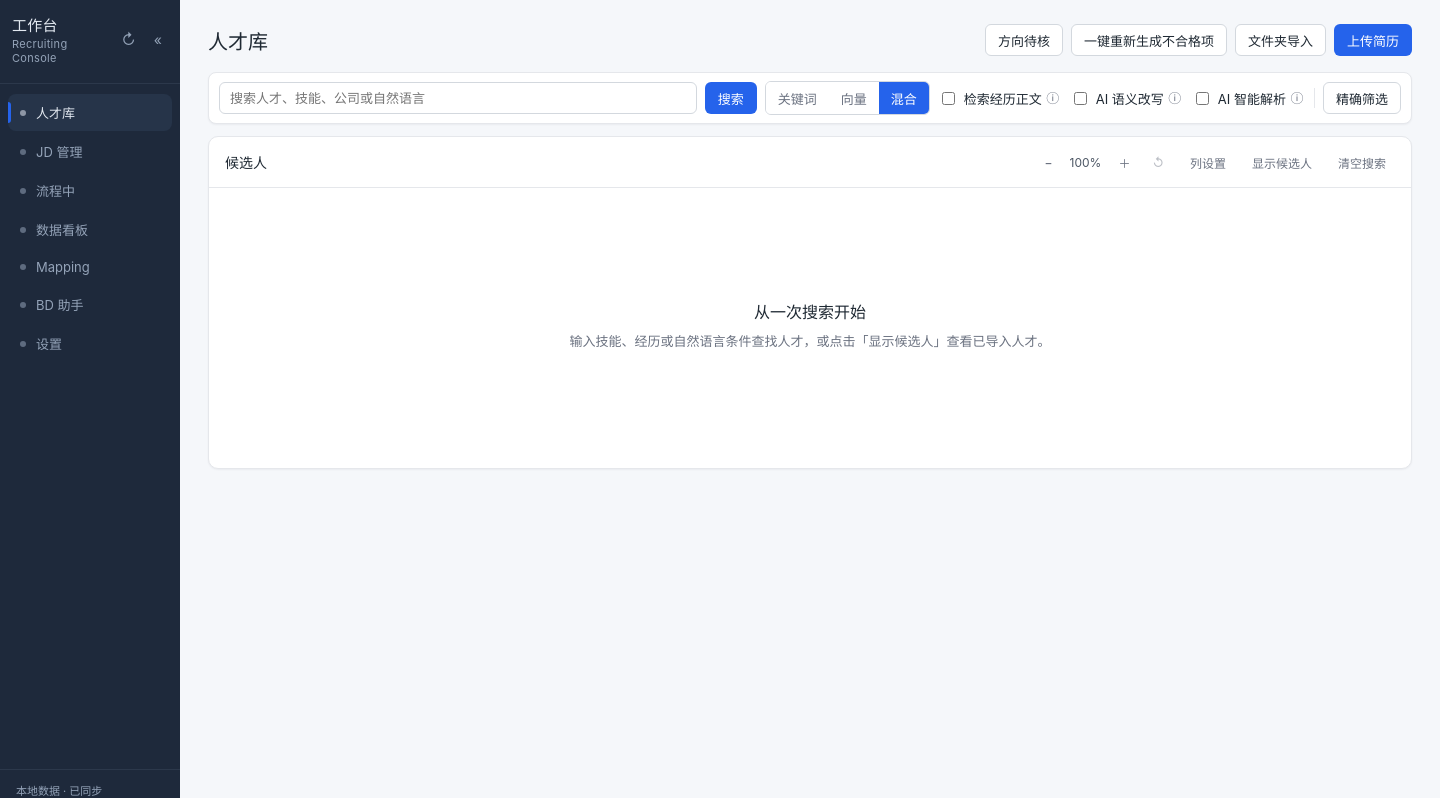
recruitment consistency through the App › creates a linked case reminder using Shanghai time and shows its paused state
The image size is (1440, 798).
Click the button "流程中".
click(90, 190)  # box left=8, top=172, right=172, bottom=209
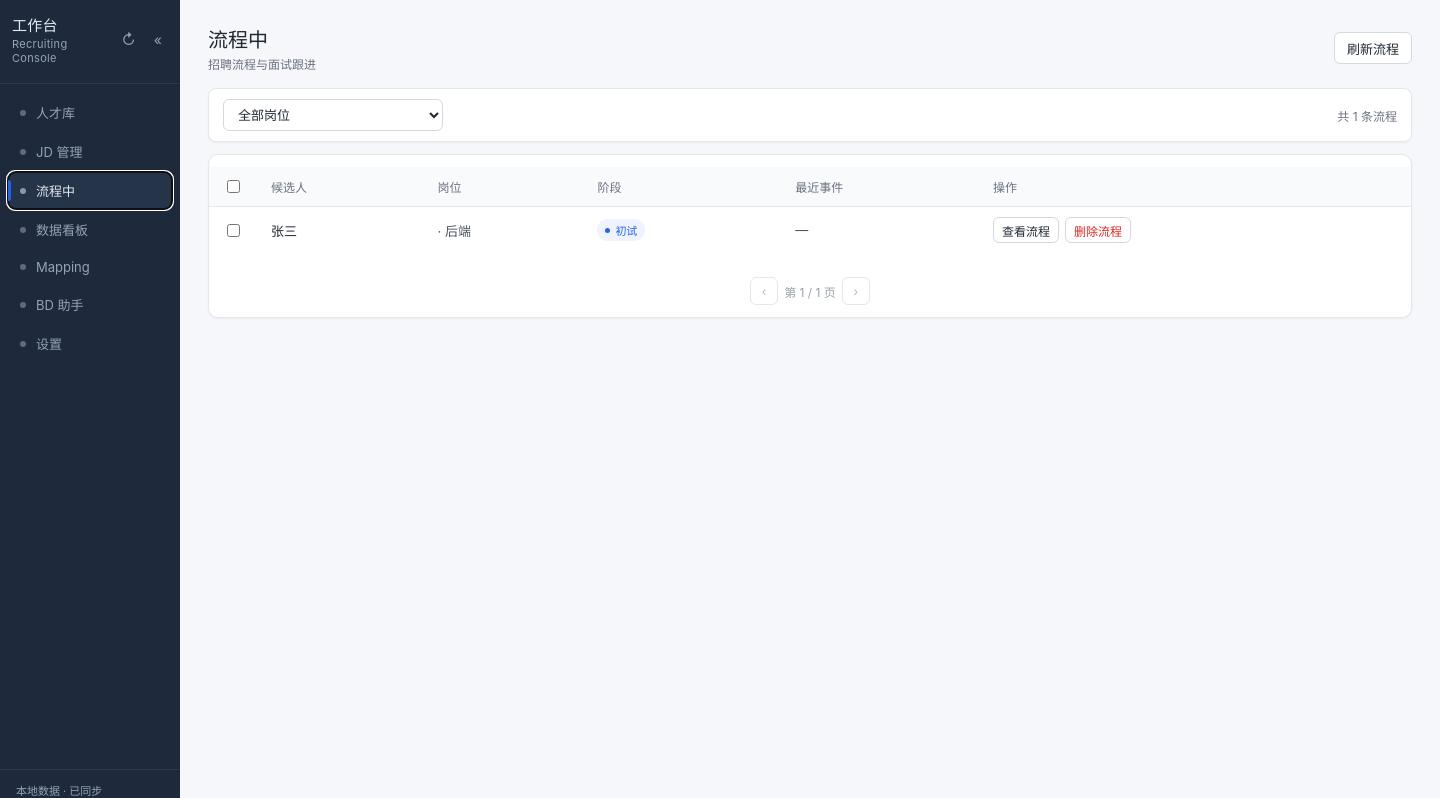
Click the button "查看流程".
click(1026, 230)  # box left=993, top=217, right=1059, bottom=243
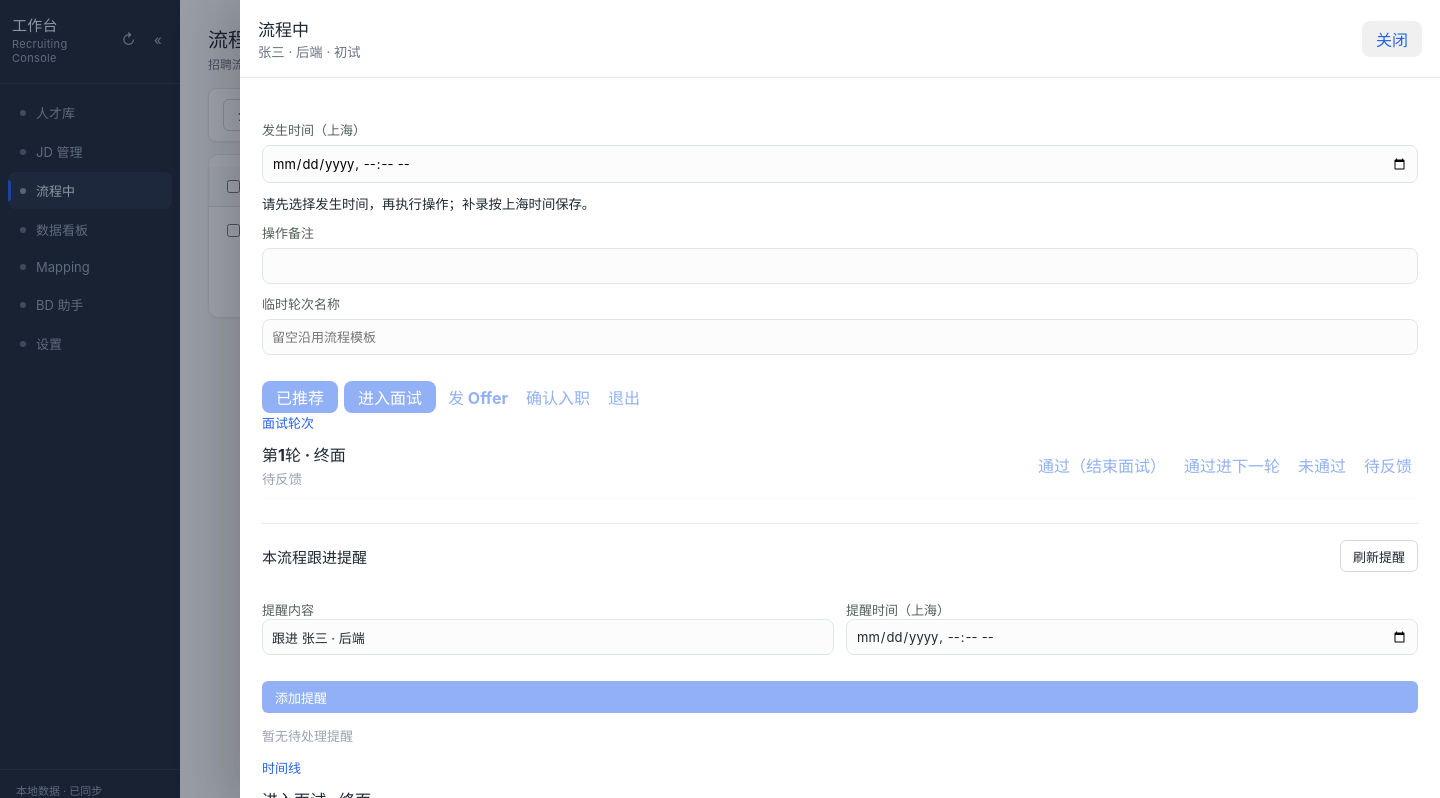
Now the field labelled "提醒内容" holds "跟进 张三 · 后端", box left=262, top=619, right=834, bottom=655
Now the button "添加提醒" is disabled, box left=262, top=681, right=1418, bottom=713
Type "2026-09-02T09:30" into the field labelled "提醒时间（上海）".
click(1132, 637); type("2026-09-02T09:30")  # box left=846, top=619, right=1418, bottom=655
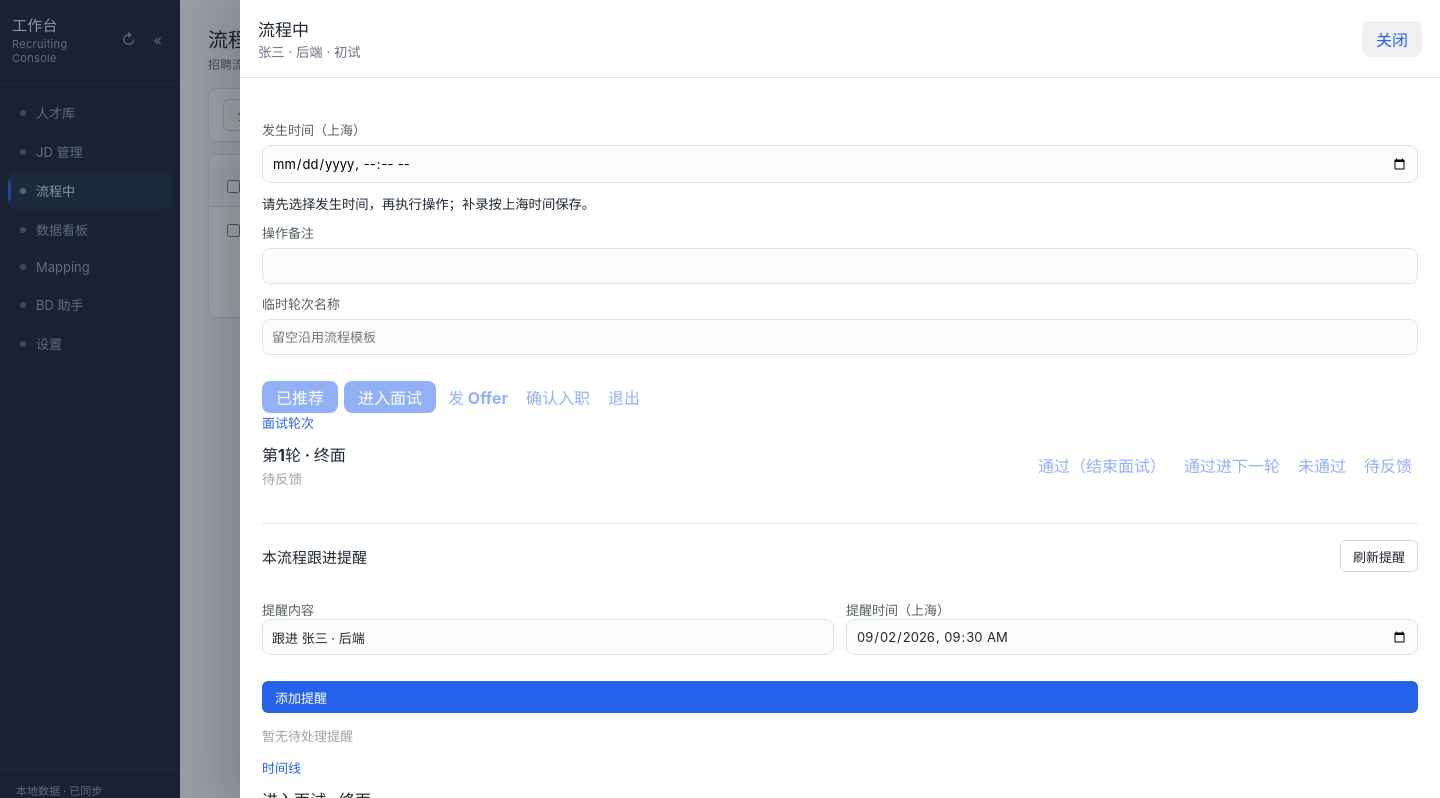
Double-click the button "添加提醒".
double_click(301, 698)  # box left=262, top=681, right=1418, bottom=713
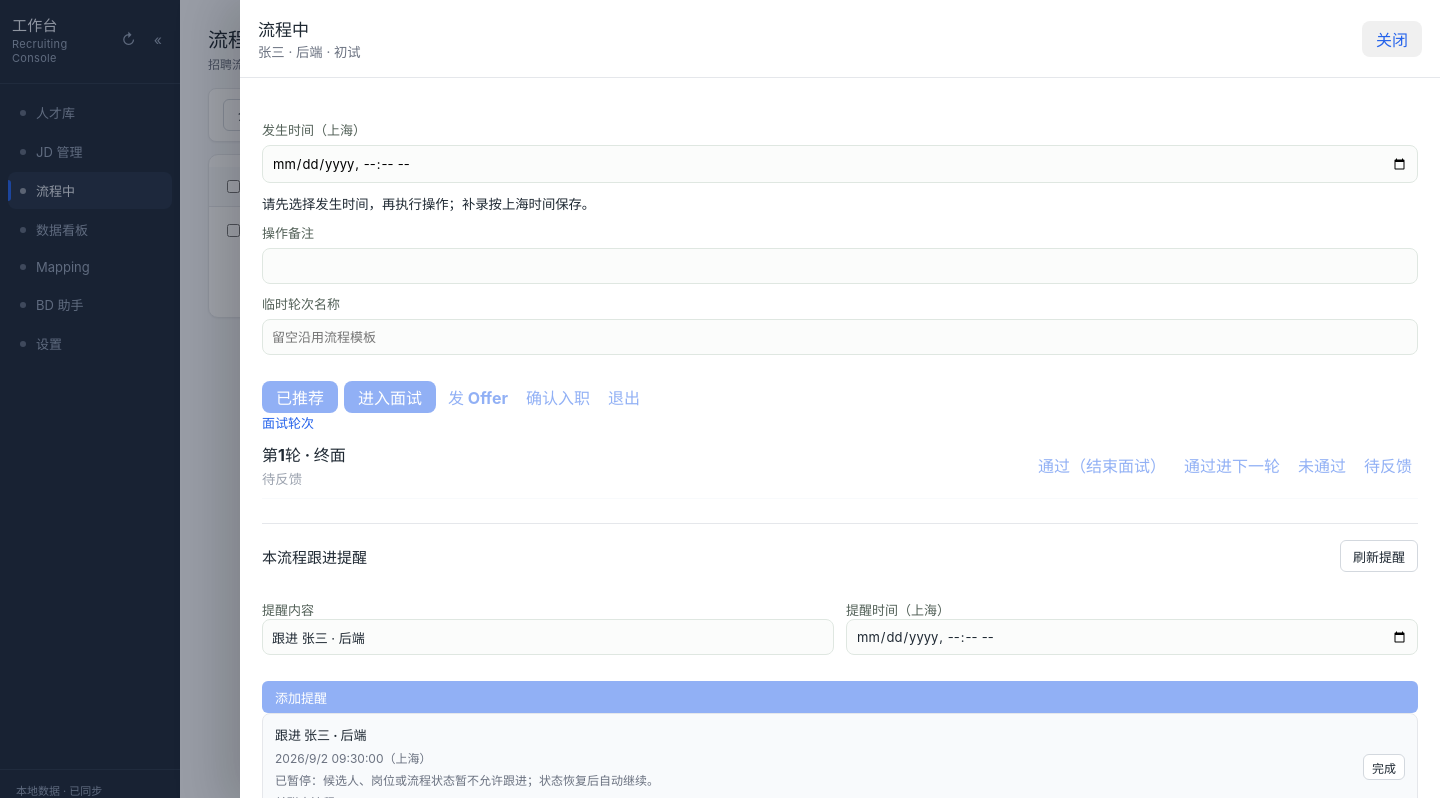
Now the text "跟进 张三 · 后端" is shown, box left=275, top=727, right=367, bottom=743
Now the text "2026/9/2 09:30:00（上海）" is shown, box left=275, top=751, right=432, bottom=766
Now the text "已暂停：候选人、岗位或流程状态暂不允许跟进；状态恢复后自动继续。" is shown, box left=275, top=771, right=659, bottom=788
